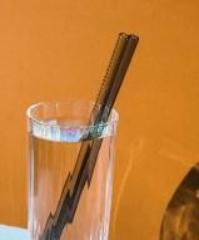glass: (25, 96, 120, 239)
